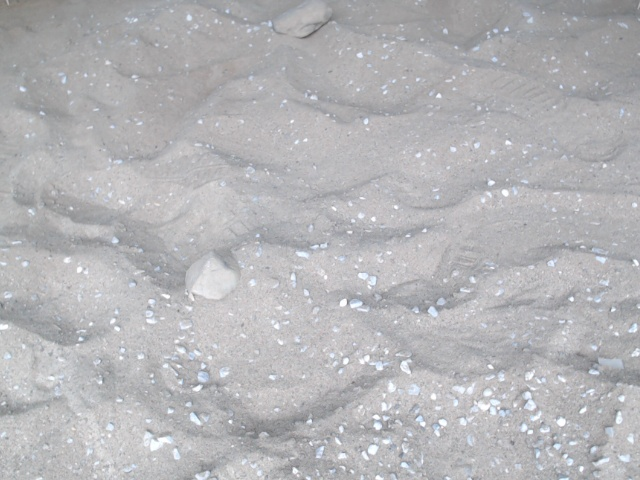rock: (181, 241, 245, 306), (268, 1, 338, 43)
